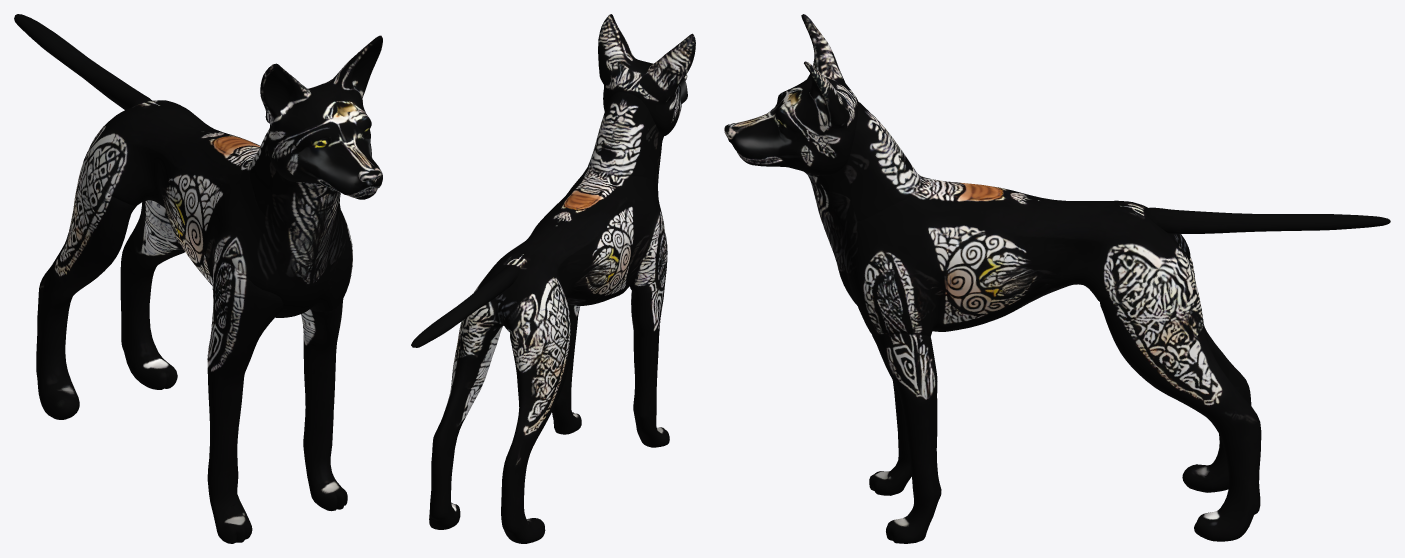
Rendered from xolo.obj.
3 renders of one model, left to right at view 1: azimuth 30°, elevation 25°; view 2: azimuth 150°, elevation 25°; view 3: azimuth 270°, elevation 25°, orthographic. The views are drawn at different scales.
Parts seen in each view (by area): view 1: tronco, cabeza, Pata_Del_Der, Pata_Tras_Der, Pata_Tras_Izq, Pata_Del_Izq, cuello, cola; view 2: tronco, Pata_Tras_Der, Pata_Tras_Izq, cabeza, Pata_Del_Der, cuello, cola, Pata_Del_Izq; view 3: tronco, Pata_Tras_Izq, cabeza, Pata_Del_Izq, cuello, cola, Pata_Tras_Der, Pata_Del_Der.
Boxes of the visible parts, left/top/right/bottom form: tronco: left=88, top=100, right=352, bottom=317; cabeza: left=260, top=35, right=382, bottom=199; Pata_Del_Der: left=207, top=259, right=283, bottom=543; Pata_Tras_Der: left=36, top=150, right=136, bottom=419; Pata_Tras_Izq: left=120, top=200, right=184, bottom=389; Pata_Del_Izq: left=301, top=299, right=347, bottom=511; cuello: left=249, top=128, right=340, bottom=240; cola: left=14, top=14, right=151, bottom=109; tronco: left=473, top=167, right=664, bottom=332; Pata_Tras_Der: left=501, top=316, right=571, bottom=543; Pata_Tras_Izq: left=429, top=313, right=502, bottom=529; cabeza: left=598, top=14, right=695, bottom=136; Pata_Del_Der: left=630, top=232, right=669, bottom=447; cuello: left=587, top=92, right=663, bottom=182; cola: left=411, top=265, right=519, bottom=347; Pata_Del_Izq: left=552, top=304, right=581, bottom=434; tronco: left=823, top=174, right=1191, bottom=336; Pata_Tras_Izq: left=1100, top=270, right=1261, bottom=541; cabeza: left=724, top=14, right=858, bottom=175; Pata_Del_Izq: left=872, top=333, right=941, bottom=543; cuello: left=804, top=102, right=920, bottom=230; cola: left=1144, top=207, right=1390, bottom=233; Pata_Tras_Der: left=1182, top=257, right=1251, bottom=492; Pata_Del_Der: left=869, top=380, right=911, bottom=495.
Size of the model in its own units: 0.4319 by 1.5 by 1.91.
Materials: 8 (8 with a texture image).
